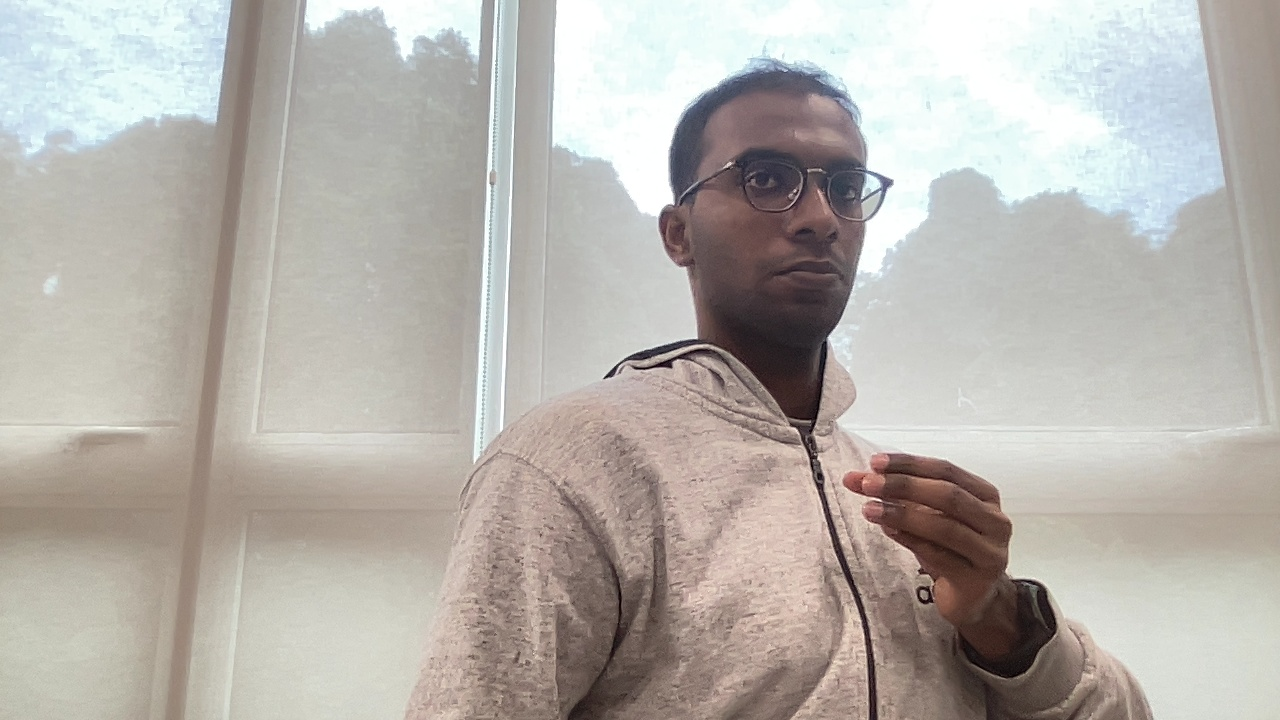drink: (838, 439, 1038, 627)
